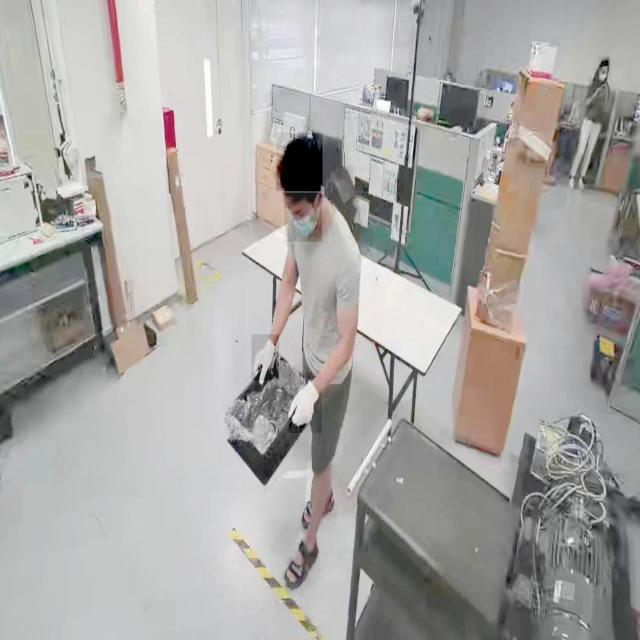gloves: (290, 372, 322, 434), (251, 334, 279, 380)
